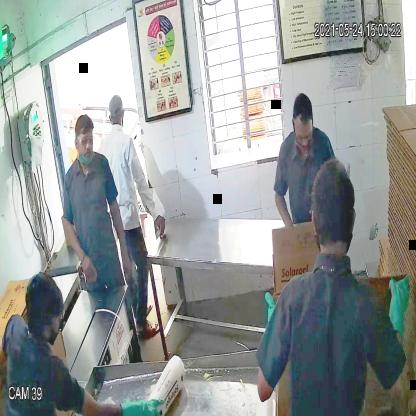goggles: (73, 134, 94, 151)
